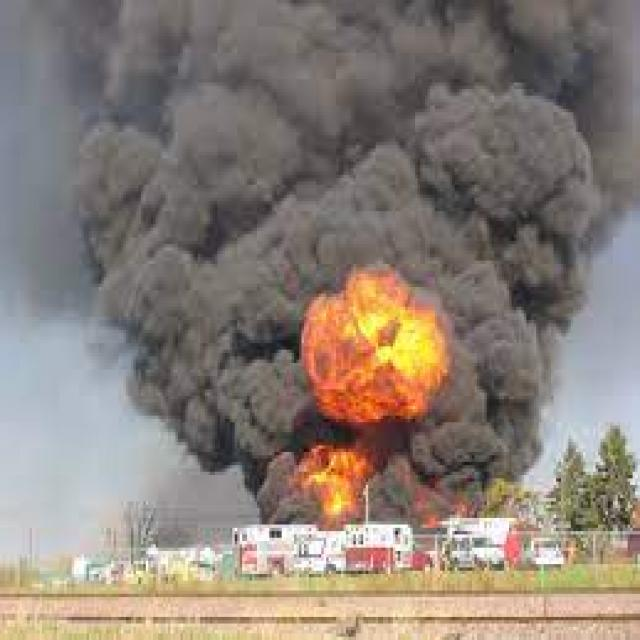fire: (292, 270, 454, 426), (299, 448, 373, 528)
smoke: (2, 3, 296, 515), (291, 3, 640, 270), (459, 3, 640, 475), (373, 432, 455, 528)
